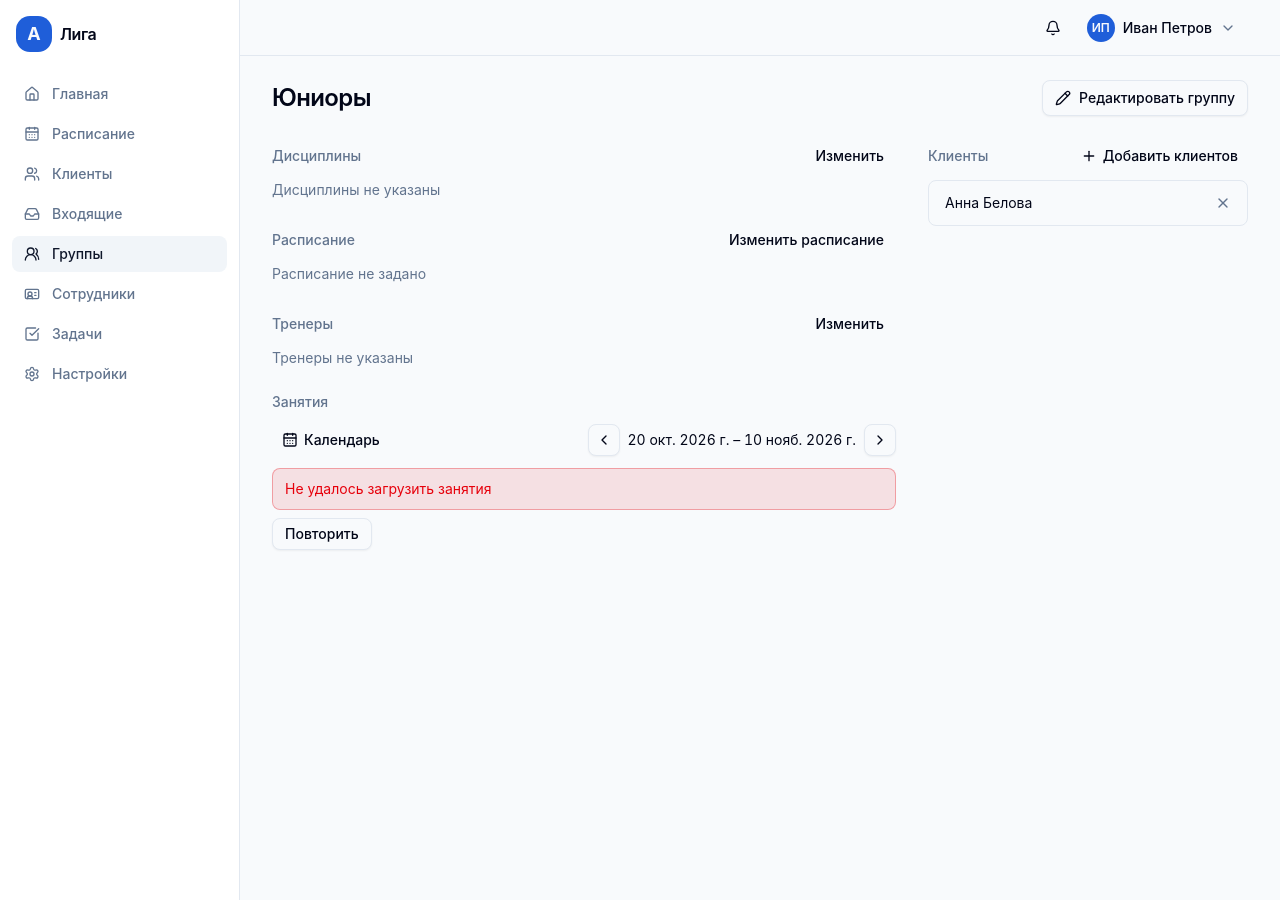
Test case: состав группы в карточке › убирает клиента из состава крестиком
Expected: the link "Анна Белова" is shown, x1=945 y1=194 x2=1032 y2=211
Step 1. Click the button named "Убрать Анна Белова из группы" → (1223,203), box x1=1207 y1=187 x2=1239 y2=219
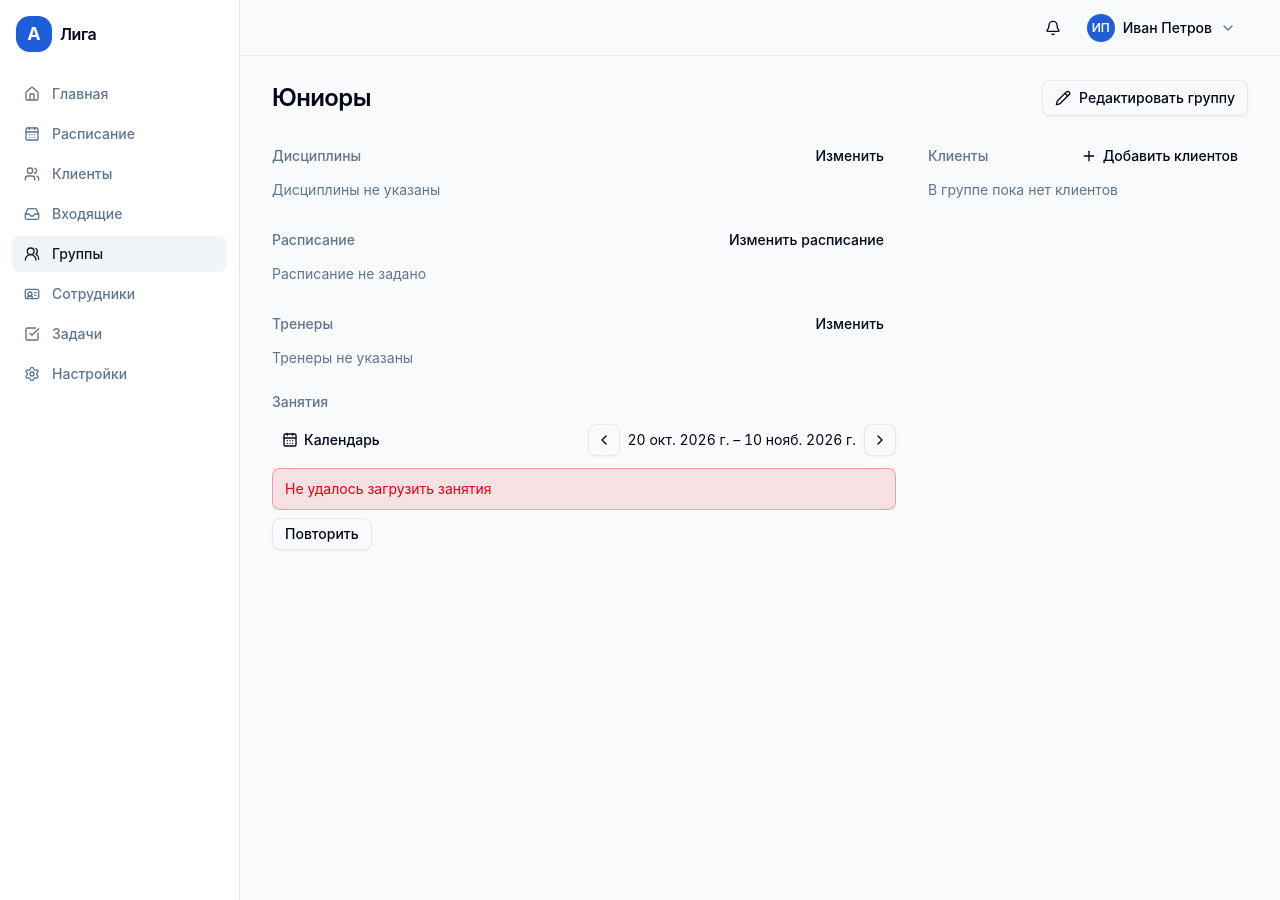
Result: the text "В группе пока нет клиентов" is shown at x1=928 y1=181 x2=1118 y2=198
